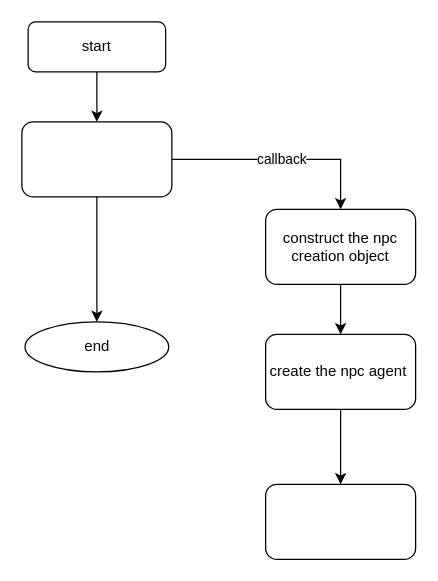
Some shapes in this 438 by 581 pixel diagram are drawn without their labels. The box of each missing label's shape, as (x1, y1, x2, y2) in pixels:
add data in add agent schema: (264, 483, 416, 559)
call data server for get the npc info: (21, 121, 172, 197)
